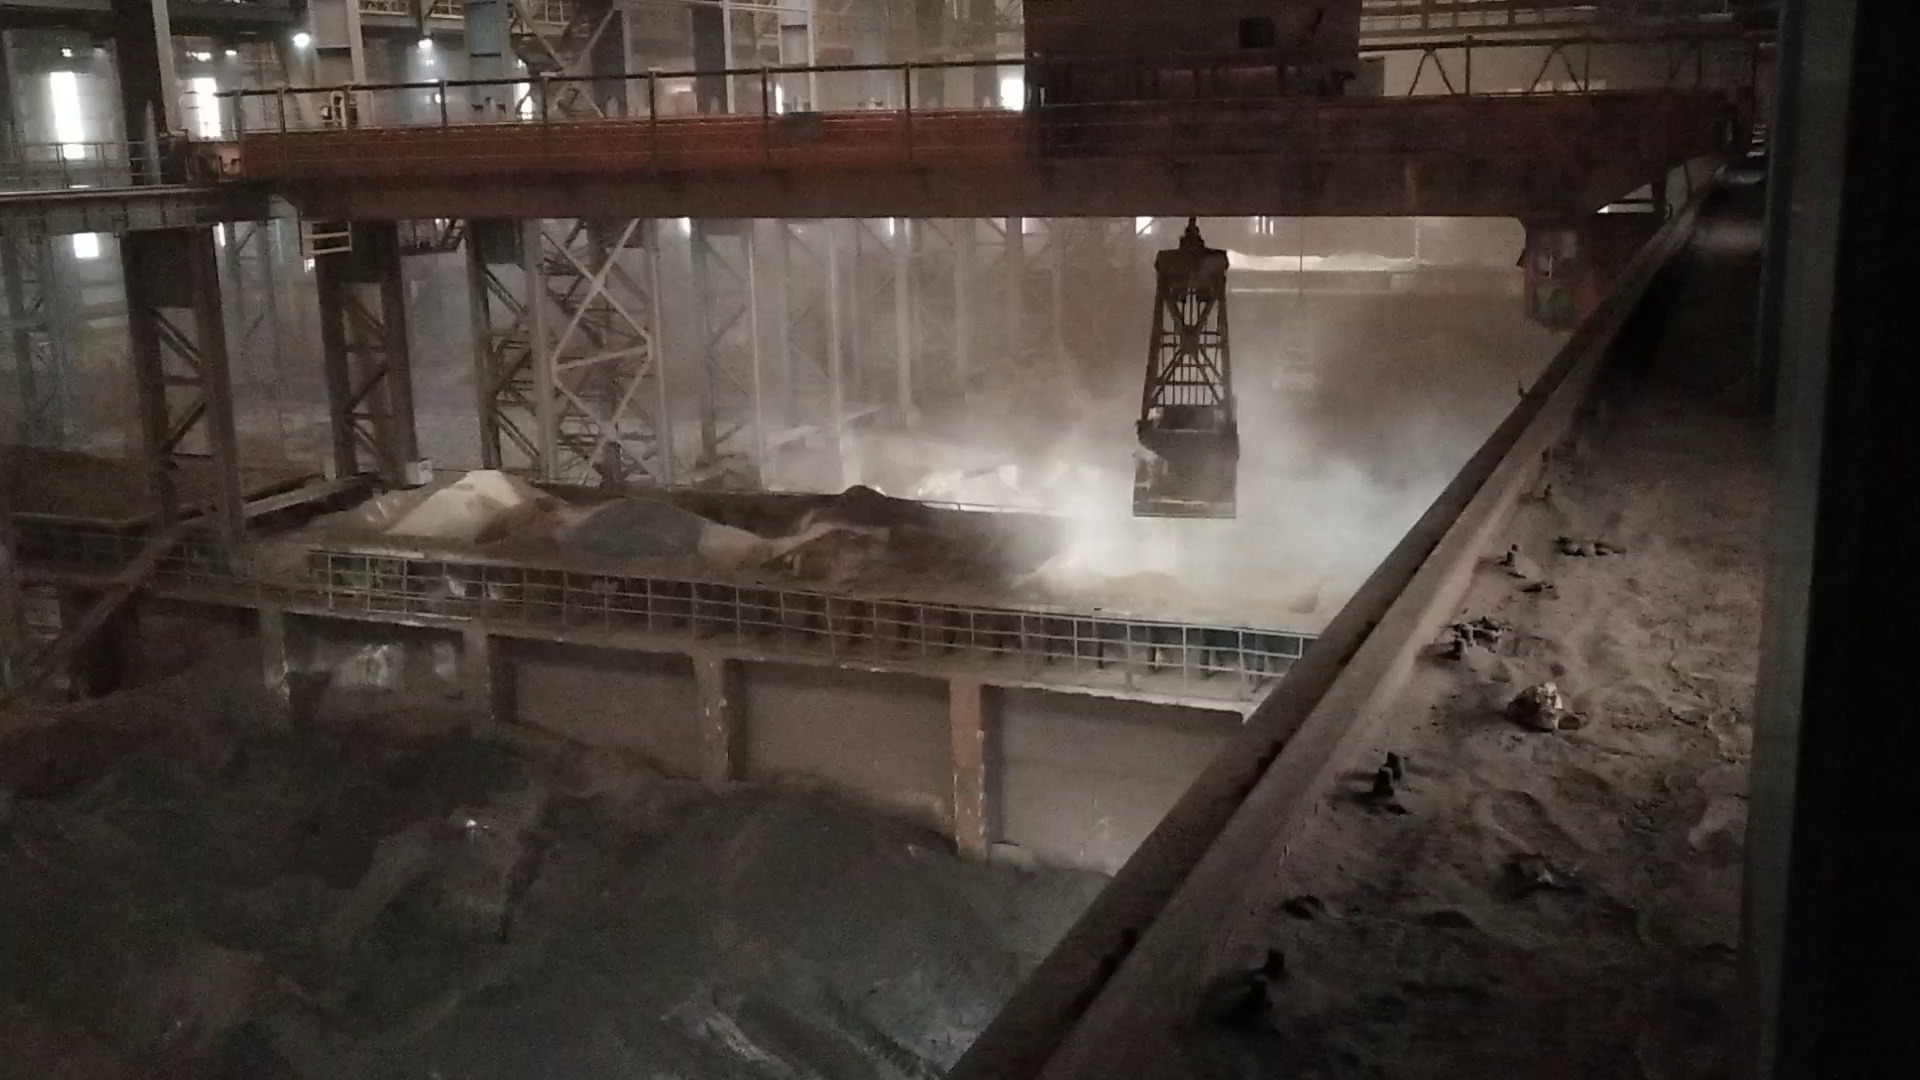dust: (745, 232, 1497, 608)
grab: (1122, 219, 1246, 526)
